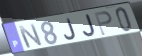0: (115, 7, 135, 33)
8: (40, 20, 59, 46)
J: (82, 13, 97, 38), (63, 18, 77, 41)
N: (17, 23, 44, 49)
P: (93, 11, 114, 37)
